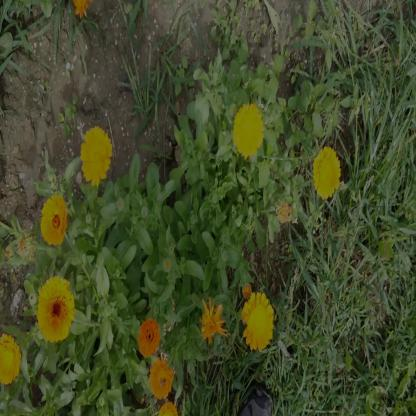marigold: (37, 278, 74, 342), (242, 292, 273, 350), (79, 127, 111, 182), (234, 104, 263, 156), (41, 193, 66, 245), (315, 148, 340, 198), (198, 299, 223, 340), (0, 335, 21, 383), (139, 318, 160, 357), (148, 362, 172, 396)
